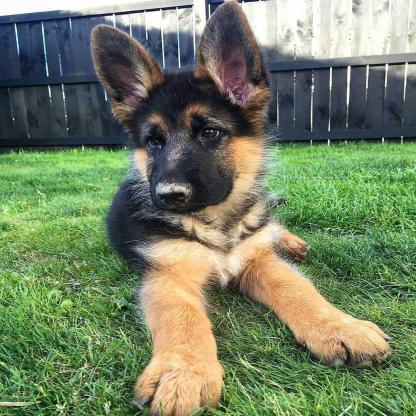german shepherd: (83, 12, 388, 410)
